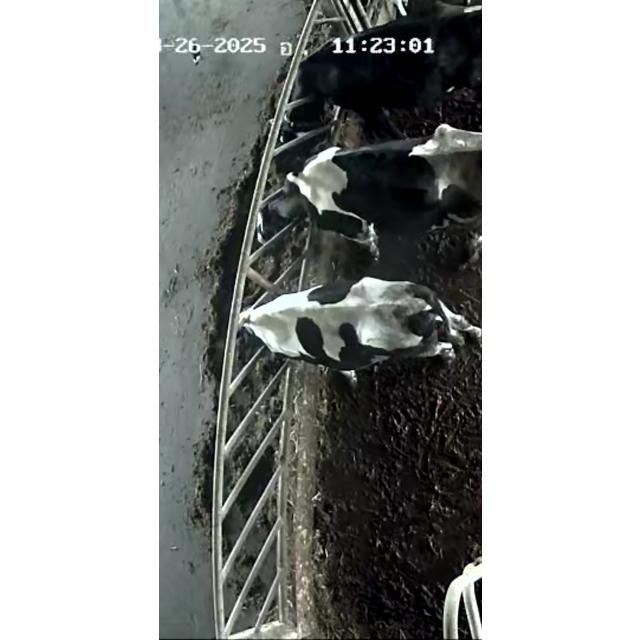eat: (195, 144, 385, 262), (234, 20, 390, 130), (184, 281, 336, 367)
